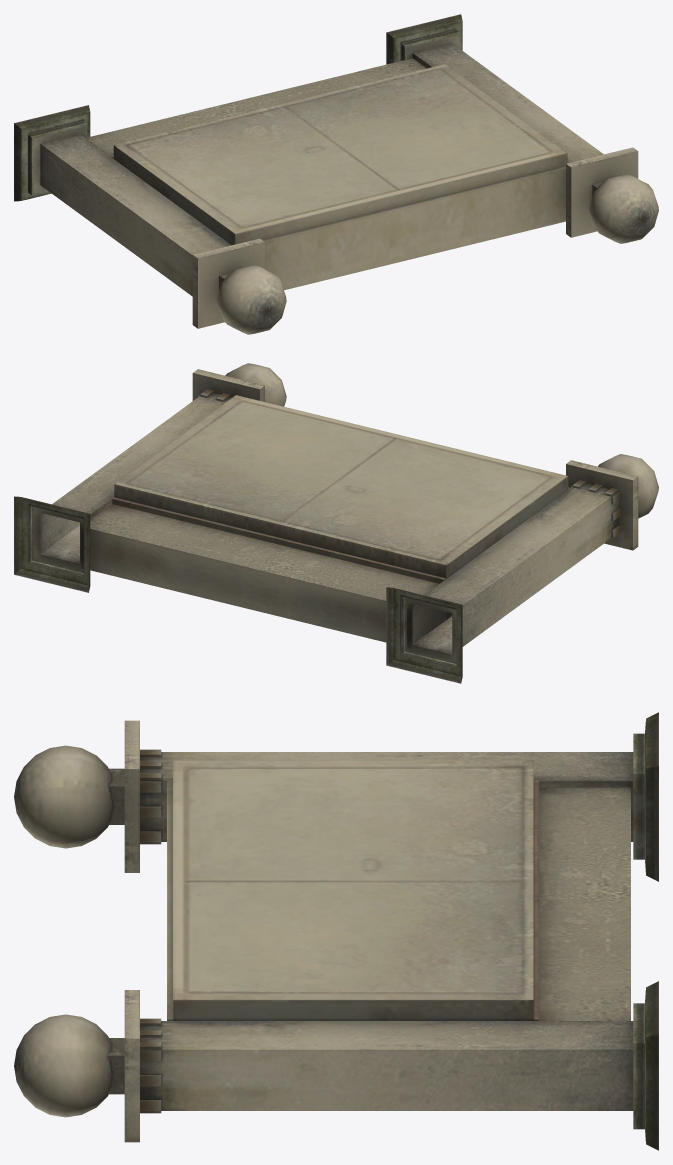
The model's file is mp_nuked_townsign_LOD0.obj.
The picture shows the model from 3 angles, top to bottom: view 1: azimuth 30°, elevation 25°; view 2: azimuth 150°, elevation 25°; view 3: azimuth 270°, elevation 25°; orthographic projection. The views are drawn at different scales.
Parts seen in each view (by area): view 1: mtl_mp_nuked_townsign; view 2: mtl_mp_nuked_townsign; view 3: mtl_mp_nuked_townsign.
Part boxes in pixels (box(x1,y1,x2,y2)): mtl_mp_nuked_townsign: box(14, 14, 658, 334); mtl_mp_nuked_townsign: box(14, 363, 658, 683); mtl_mp_nuked_townsign: box(14, 712, 658, 1150).
Size of the model in its own units: 390 by 65.22 by 329.
